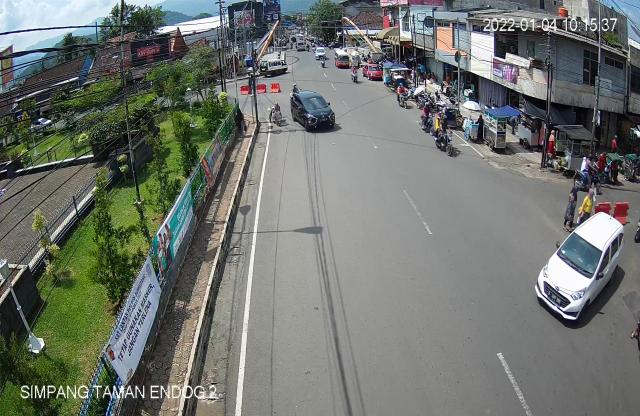Mobil: (530, 208, 628, 331), (288, 86, 339, 134)
Motor: (572, 151, 606, 196), (436, 113, 456, 159), (419, 102, 436, 137), (397, 84, 410, 110)
